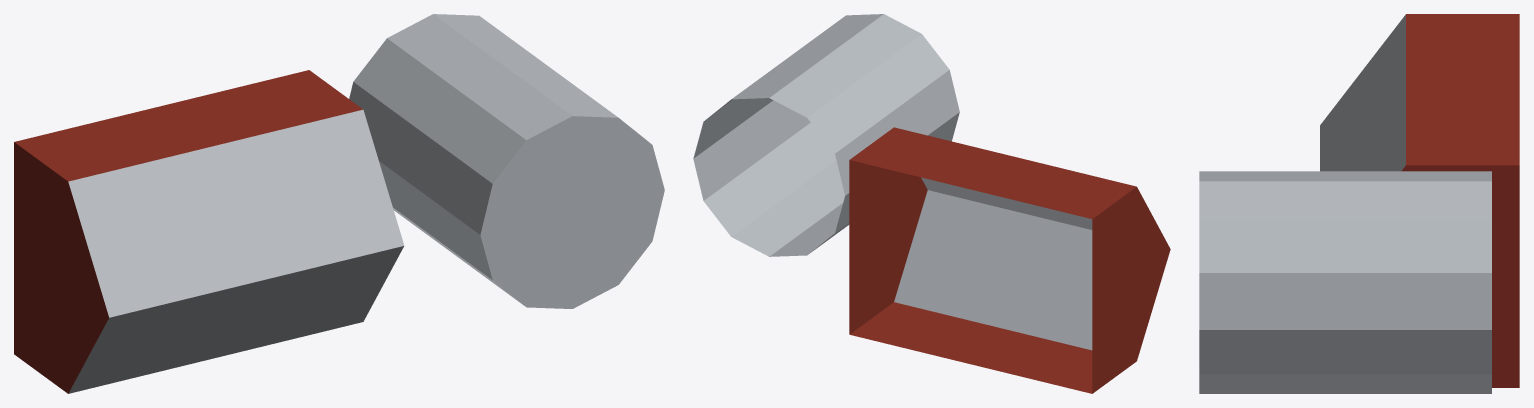
File: island_bldg_14_08.obj
The picture shows the model from 3 angles, left to right: view 1: azimuth 30°, elevation 25°; view 2: azimuth 150°, elevation 25°; view 3: azimuth 270°, elevation 25°; orthographic projection. The views are drawn at different scales.
Visible parts, largest first — view 1: island_bldg_14_08; view 2: island_bldg_14_08; view 3: island_bldg_14_08.
Part boxes in pixels (x1,y1,x2,y2): island_bldg_14_08: (14,14,664,393); island_bldg_14_08: (693,14,1170,393); island_bldg_14_08: (1199,14,1519,393).
Size of the model in its own units: 54 by 26 by 28.67.
